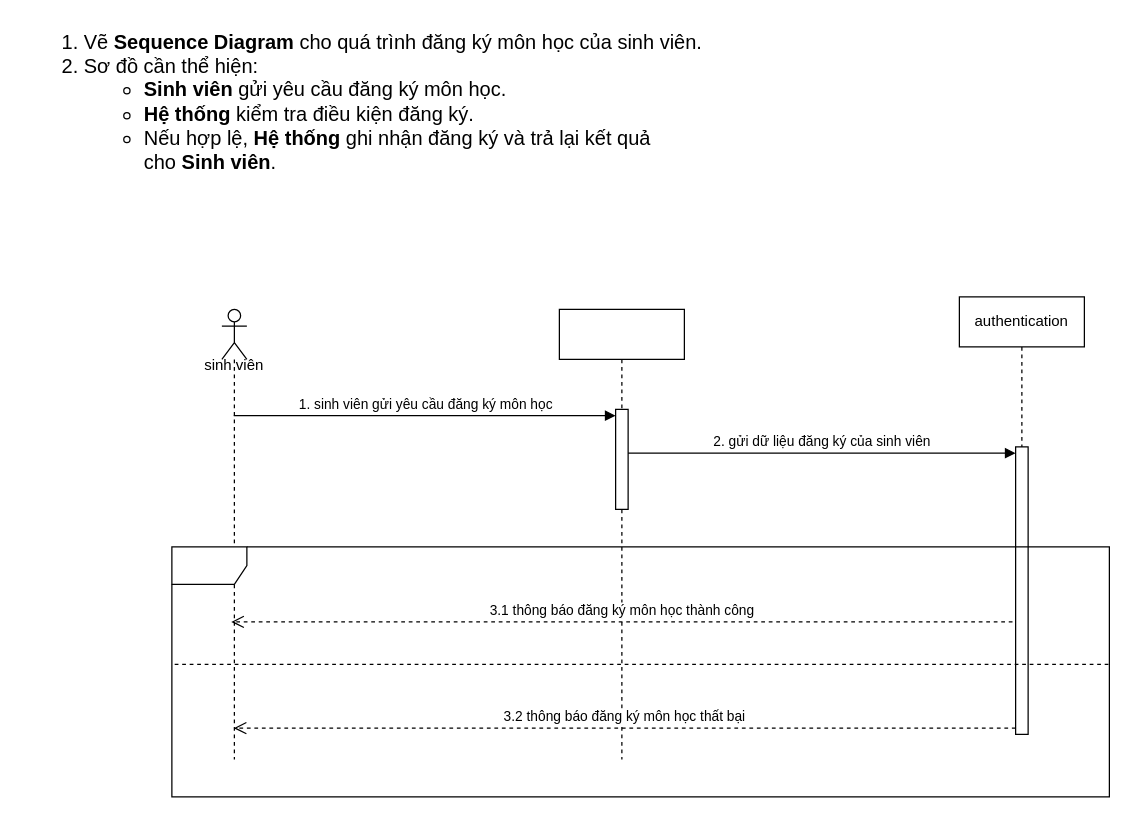
This 1131x819 diagram has some shape labels left out. The centre of each missing label's shape, as x and y in pixels:
"alt" goes at pixel 640 671.
"hệ thống" goes at pixel 621 533.
